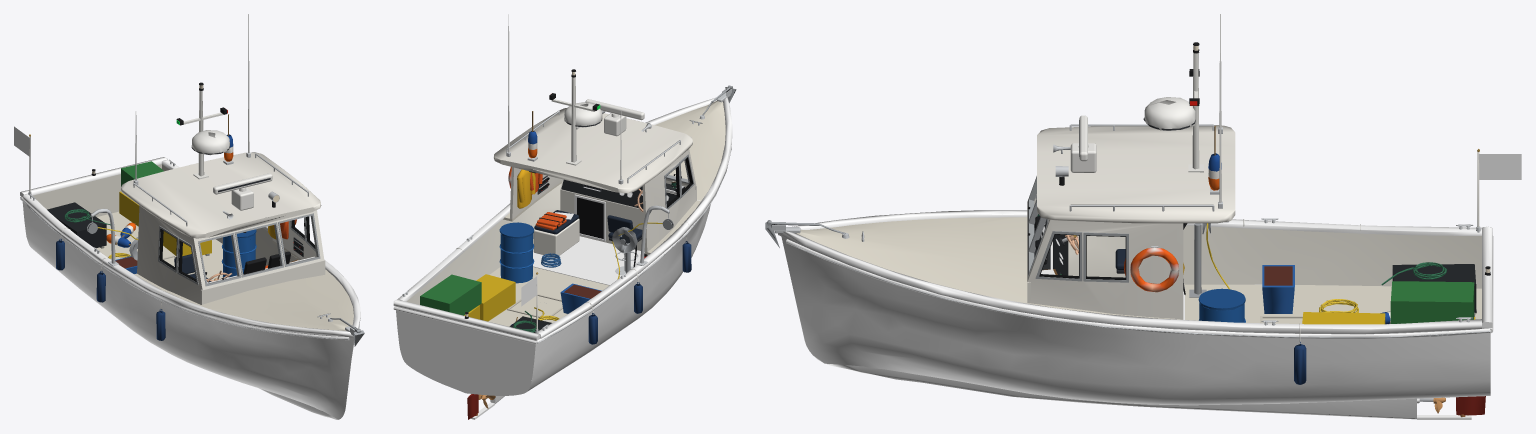
Rendered from moored-boat-low.glb.
3 renders of one model, left to right at view 1: azimuth 30°, elevation 25°; view 2: azimuth 150°, elevation 25°; view 3: azimuth 270°, elevation 25°, orthographic. The views are drawn at different scales.
Parts seen in each view (by area): view 1: Procedural village; view 2: Procedural village; view 3: Procedural village.
Boxes of the visible parts, bbox=[...] form: Procedural village: bbox=[14, 14, 364, 419]; Procedural village: bbox=[393, 14, 736, 419]; Procedural village: bbox=[765, 14, 1521, 419].
Size of the model in its own units: 3.48 by 5.63 by 8.74.
